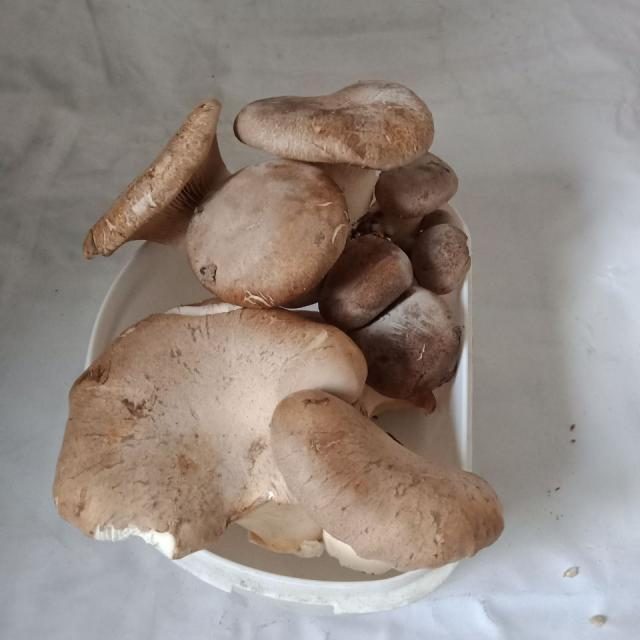Pleurotus cystidiosus: (46, 309, 365, 546), (271, 390, 503, 574), (331, 160, 470, 411), (190, 167, 346, 305), (87, 103, 228, 254), (238, 75, 437, 179)
